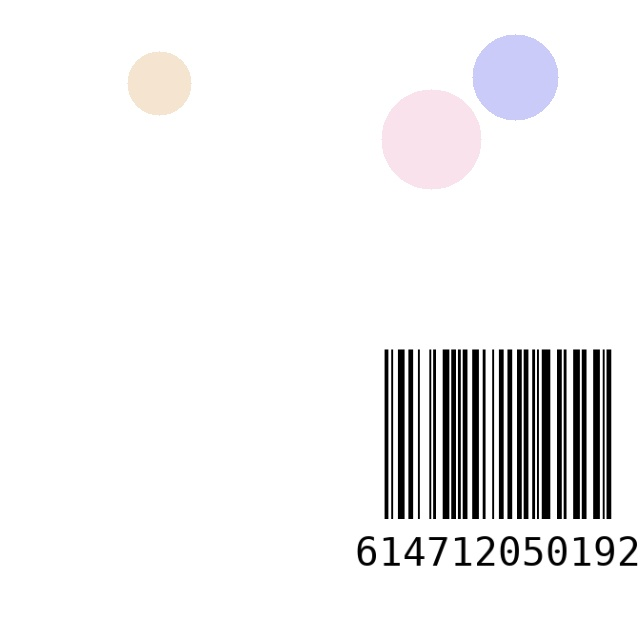barcode: (356, 339, 640, 606)
